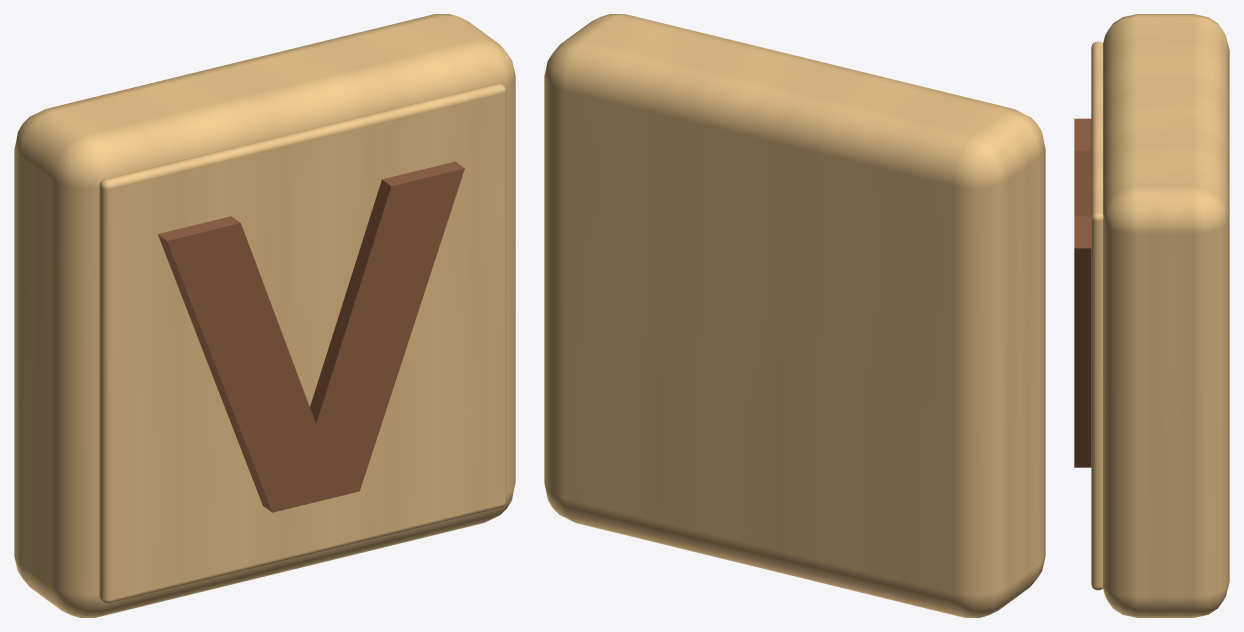
3 renders of one model, left to right at view 1: azimuth 30°, elevation 25°; view 2: azimuth 150°, elevation 25°; view 3: azimuth 270°, elevation 25°, orthographic. The views are drawn at different scales.
Parts seen in each view (by area): view 1: Tile_V; view 2: Tile_V; view 3: Tile_V.
Boxes of the visible parts, box(x1,y1,x2,y2) form: Tile_V: box(14, 14, 515, 617); Tile_V: box(544, 14, 1045, 617); Tile_V: box(1074, 14, 1229, 617).
Size of the model in its own units: 0.21 by 0.21 by 0.069.
2 materials, 1 textured.
